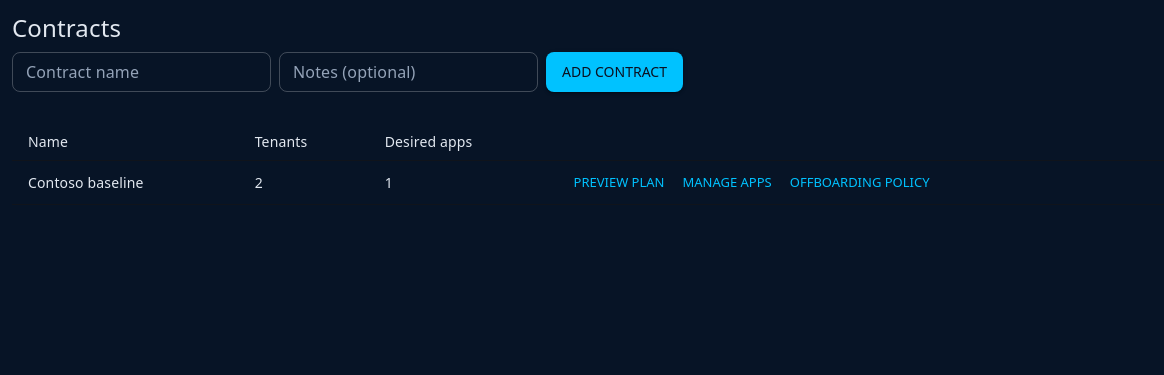
it: Contracts › clears a previously shown plan once a new preview attempt fails
Click the button "Preview plan": [619, 183] box [568,167,670,198]
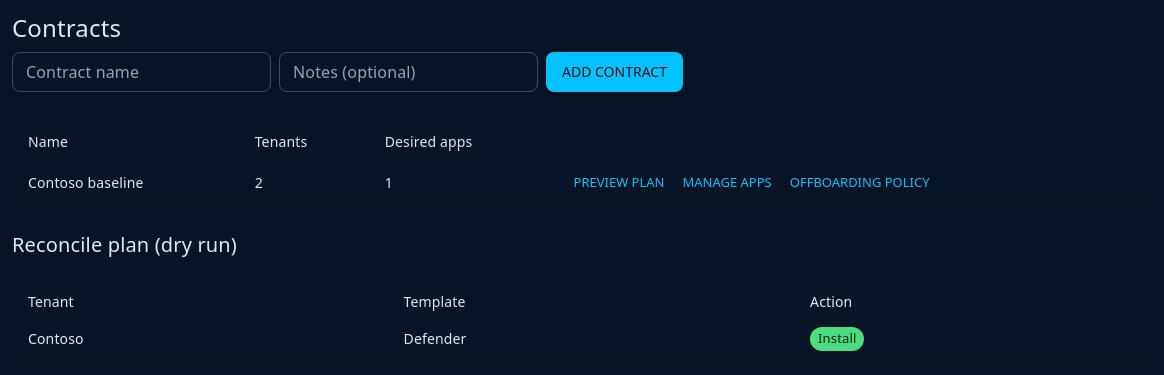
Now the text "Defender" is shown, box [388,321,794,358]
Click the button "Preview plan": [619, 183] box [568,167,670,198]
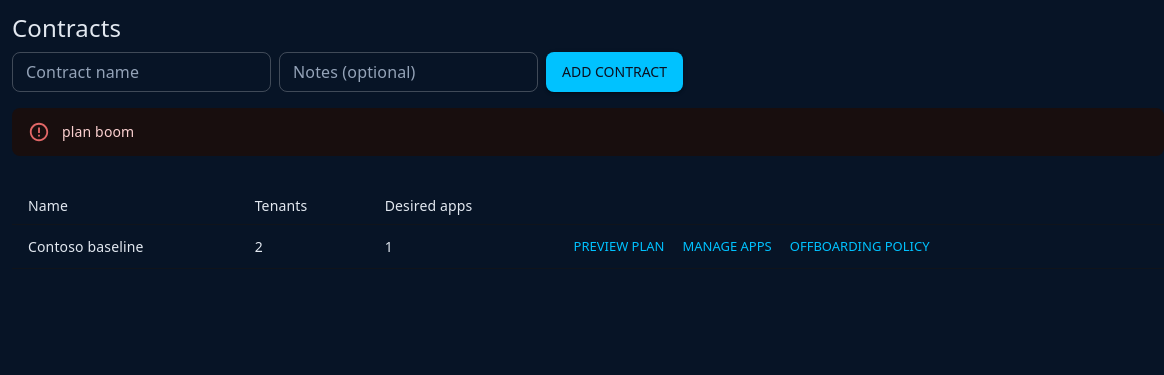
Now the text "plan boom" is shown, box [62,122,134,141]
Now the text "Defender" is gone
